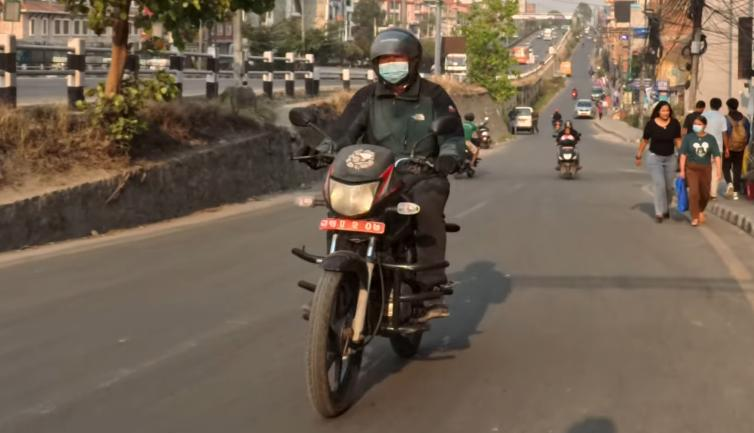bike: (286, 102, 462, 416)
